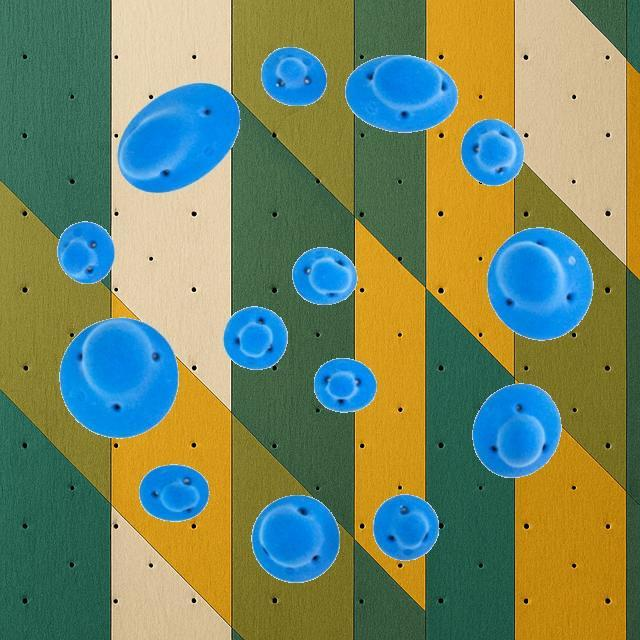Sloper: (58, 316, 178, 438), (116, 80, 240, 194), (486, 226, 594, 340), (344, 53, 458, 133), (471, 382, 561, 478), (250, 494, 340, 582), (372, 493, 440, 561), (460, 118, 524, 186), (223, 306, 287, 370), (260, 46, 328, 106), (139, 464, 209, 520), (56, 220, 116, 284), (292, 246, 356, 304), (313, 356, 377, 412)
